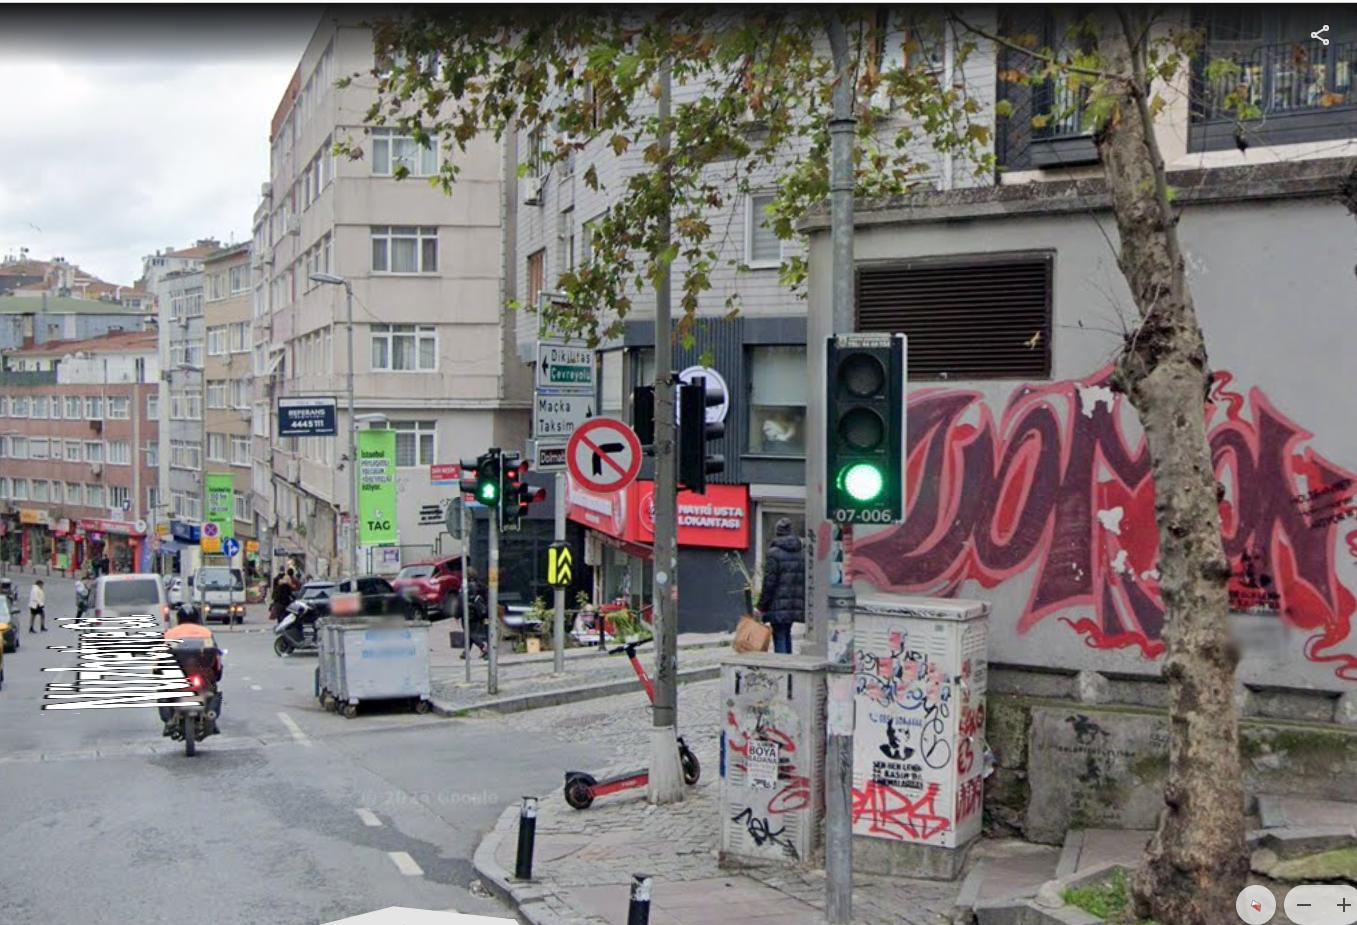greenlight: (818, 327, 909, 529)
rightturnsareforbidden: (564, 416, 647, 499)
